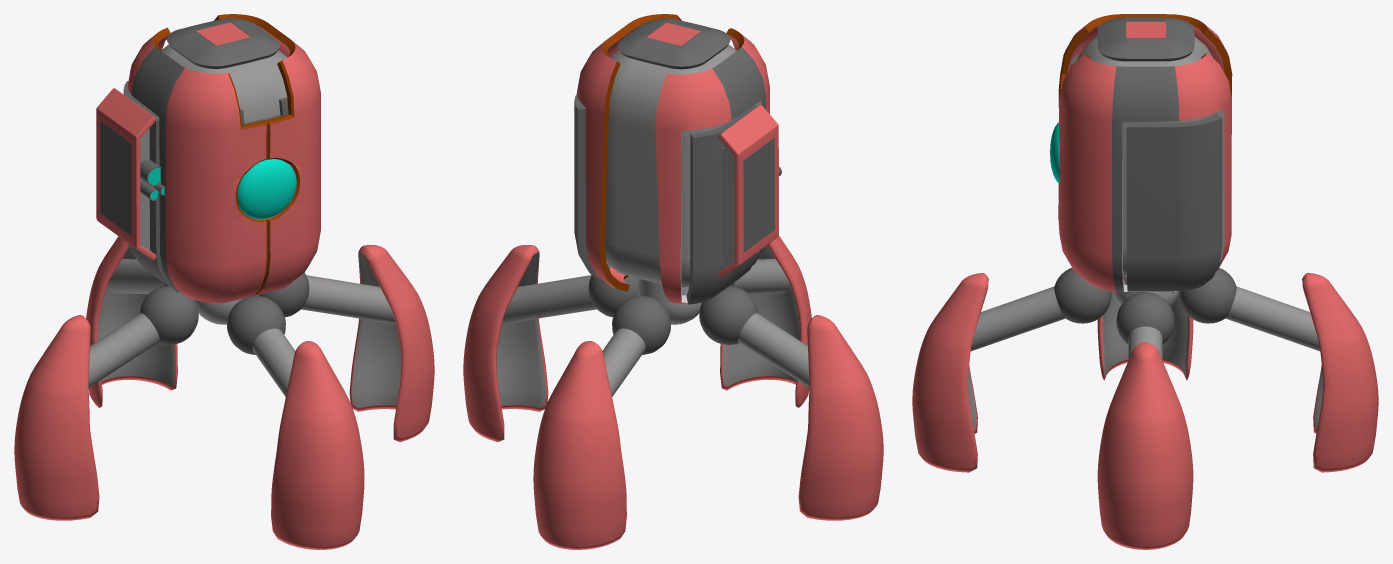
The model's file is 4_way_rocket.fbx.
3 renders of one model, left to right at view 1: azimuth 30°, elevation 25°; view 2: azimuth 150°, elevation 25°; view 3: azimuth 270°, elevation 25°, orthographic.
Parts seen in each view (by area): view 1: right_shell, B1, B2, left_shell, B4, side_gun, B3, L2, head, L4, L1, body (+3 smaller); view 2: B3, body, B2, right_shell, B4, side_gun, left_shell, polySurface15, B1, L2, L4, head (+4 smaller); view 3: left_shell, polySurface14, B4, B1, B3, L1, L3, head, B2, L4, right_shell, body.
Boxes of the visible parts, x1=… form: right_shell: x1=127, y1=27, x2=267, y2=303; B1: x1=271, y1=341, x2=364, y2=549; B2: x1=14, y1=315, x2=99, y2=520; left_shell: x1=214, y1=14, x2=320, y2=295; B4: x1=349, y1=245, x2=434, y2=442; side_gun: x1=96, y1=88, x2=165, y2=260; B3: x1=86, y1=236, x2=177, y2=407; L2: x1=88, y1=286, x2=198, y2=387; head: x1=167, y1=18, x2=279, y2=68; L4: x1=259, y1=272, x2=395, y2=324; L1: x1=227, y1=296, x2=295, y2=396; body: x1=161, y1=44, x2=288, y2=124; B3: x1=533, y1=341, x2=626, y2=549; body: x1=604, y1=44, x2=754, y2=287; B2: x1=798, y1=315, x2=883, y2=520; right_shell: x1=655, y1=28, x2=769, y2=303; B4: x1=463, y1=245, x2=548, y2=442; side_gun: x1=718, y1=104, x2=781, y2=276; left_shell: x1=577, y1=14, x2=681, y2=291; polySurface15: x1=686, y1=105, x2=758, y2=304; B1: x1=720, y1=236, x2=811, y2=407; L2: x1=699, y1=286, x2=809, y2=387; L4: x1=502, y1=266, x2=638, y2=324; head: x1=617, y1=18, x2=730, y2=69; left_shell: x1=1050, y1=53, x2=1231, y2=292; polySurface14: x1=1126, y1=115, x2=1222, y2=291; B4: x1=1097, y1=342, x2=1193, y2=549; B1: x1=912, y1=273, x2=988, y2=472; B3: x1=1302, y1=273, x2=1378, y2=472; L1: x1=970, y1=267, x2=1111, y2=351; L3: x1=1179, y1=267, x2=1320, y2=351; head: x1=1097, y1=17, x2=1194, y2=61; B2: x1=1097, y1=291, x2=1193, y2=380; L4: x1=1116, y1=292, x2=1174, y2=360; right_shell: x1=1058, y1=14, x2=1232, y2=219; body: x1=1069, y1=36, x2=1217, y2=276.
Bounding box in the file's own units: 8.59 × 8.64 × 8.59.
